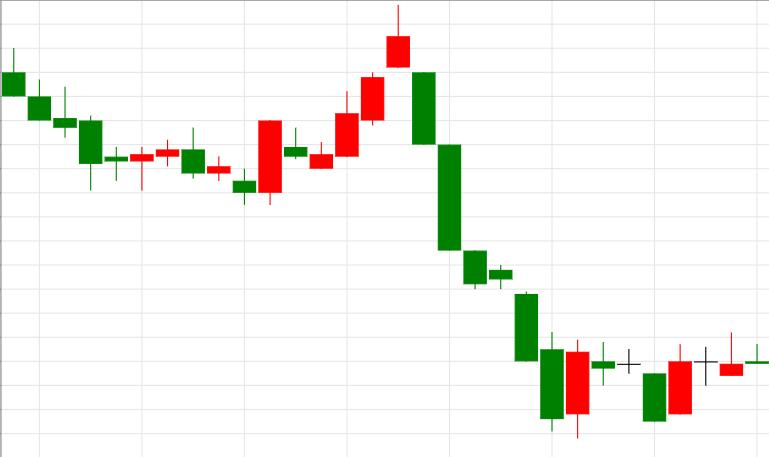three_black_crows_fall: (310, 4, 487, 290)
